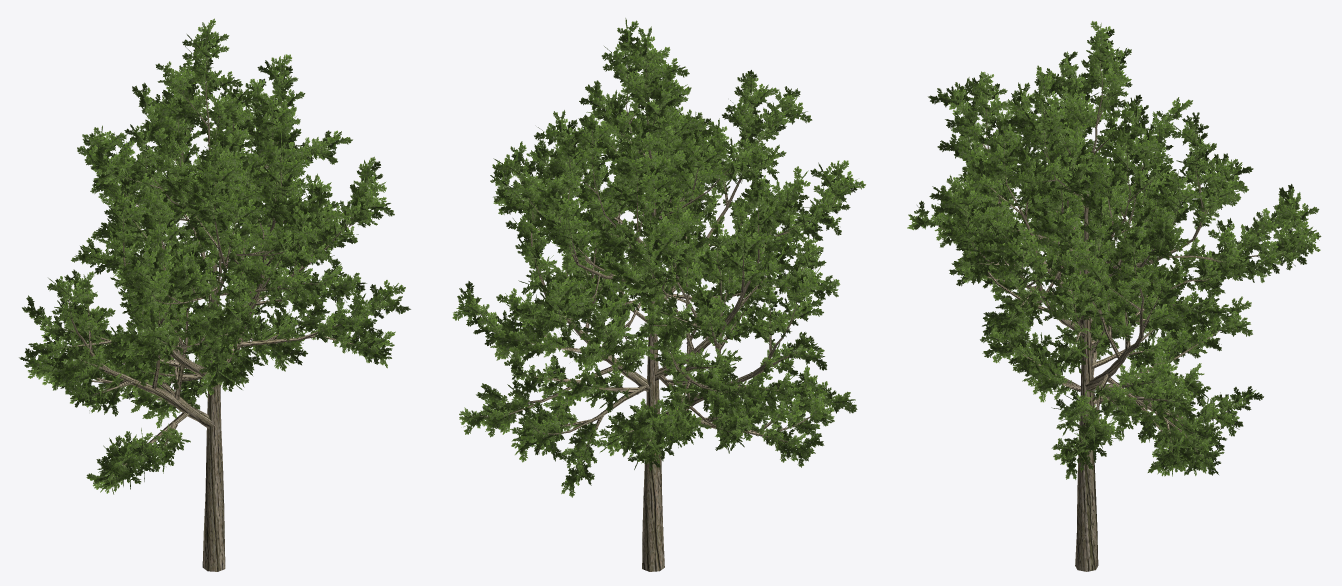
Rendered from oak_medium_02.glb.
The picture shows the model from 3 angles, left to right: view 1: azimuth 30°, elevation 25°; view 2: azimuth 150°, elevation 25°; view 3: azimuth 270°, elevation 25°; orthographic projection.
Parts seen in each view (by area): view 1: Tree; view 2: Tree; view 3: Tree.
Part boxes in pixels (x1,y1,x2,y2): Tree: (19, 18, 410, 571); Tree: (452, 18, 865, 571); Tree: (907, 21, 1321, 571).
Size of the model in its own units: 50.9 by 71.45 by 50.88.
Materials: 2 (2 with a texture image).
